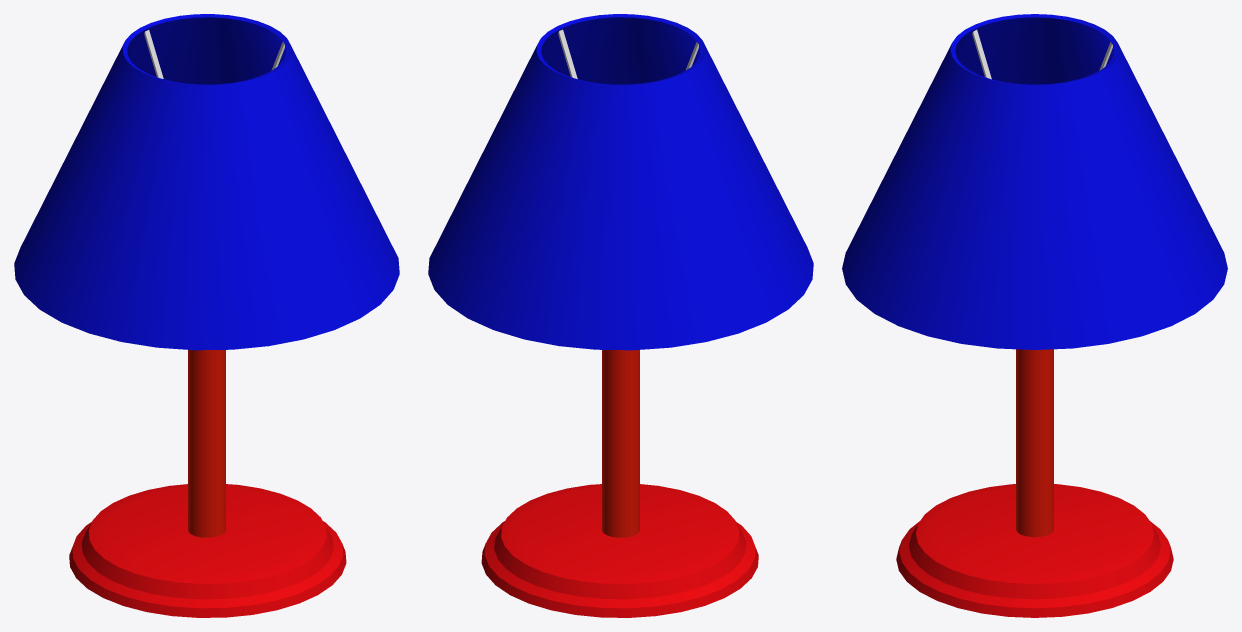
File: Lamp.fbx
3 views of the same model, side by side, from view 1: azimuth 30°, elevation 25°; view 2: azimuth 150°, elevation 25°; view 3: azimuth 270°, elevation 25° (orthographic).
Parts seen in each view (by area): view 1: Circle.001, Circle, Circle.002; view 2: Circle.001, Circle, Circle.002; view 3: Circle.001, Circle, Circle.002.
Boxes of the visible parts, bbox=[...] form: Circle.001: bbox=[14, 14, 399, 350]; Circle: bbox=[69, 484, 346, 617]; Circle.002: bbox=[188, 350, 225, 537]; Circle.001: bbox=[428, 14, 813, 350]; Circle: bbox=[481, 484, 758, 617]; Circle.002: bbox=[602, 350, 639, 537]; Circle.001: bbox=[842, 14, 1227, 349]; Circle: bbox=[896, 484, 1173, 617]; Circle.002: bbox=[1016, 349, 1053, 537].
Size of the model in its own units: 202 by 294 by 202.
